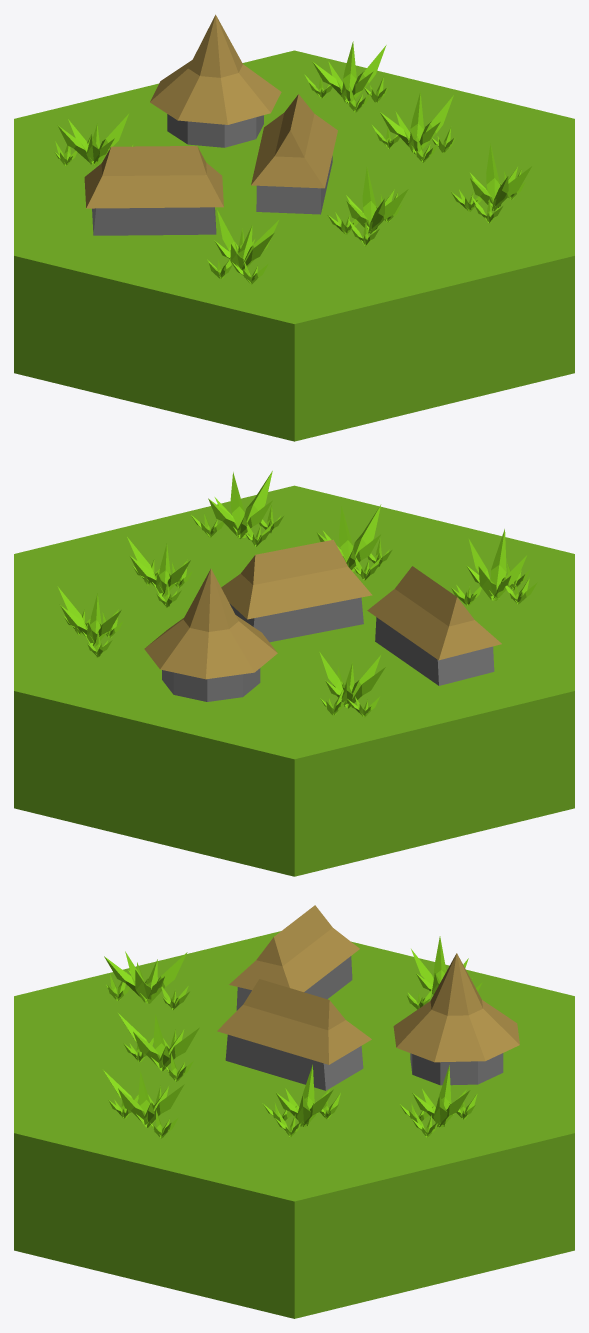
File: Casas_Sabana_3.fbx
The picture shows the model from 3 angles, top to bottom: view 1: azimuth 30°, elevation 25°; view 2: azimuth 150°, elevation 25°; view 3: azimuth 270°, elevation 25°; orthographic projection.
Parts seen in each view (by area): view 1: Casas_Sabana_3; view 2: Casas_Sabana_3; view 3: Casas_Sabana_3.
Boxes of the visible parts, x1,y1,x2,y2 form: Casas_Sabana_3: [14, 14, 574, 441]; Casas_Sabana_3: [14, 471, 574, 876]; Casas_Sabana_3: [14, 905, 574, 1318].
Size of the model in its own units: 200 by 78.5 by 173.
